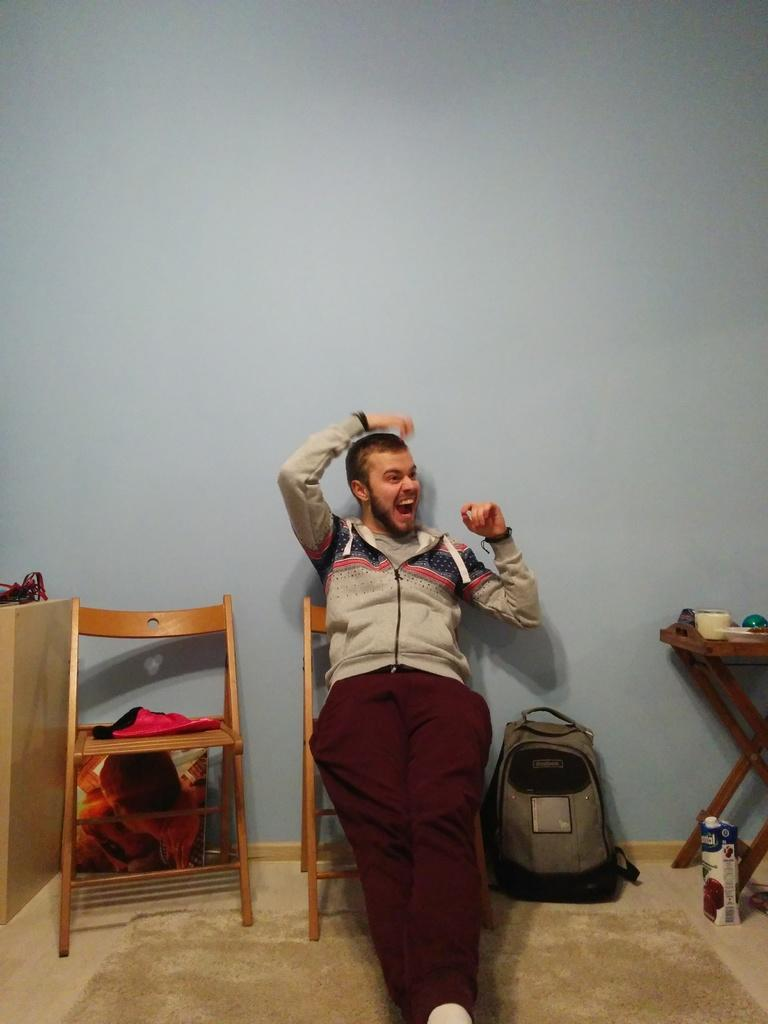Luggage-and-bags: (481, 707, 635, 906), (67, 702, 216, 877)
